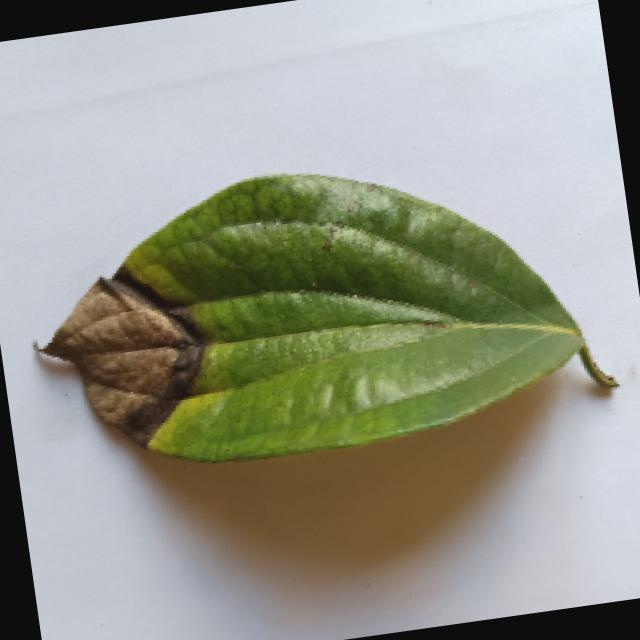footrot: (14, 135, 616, 491)
